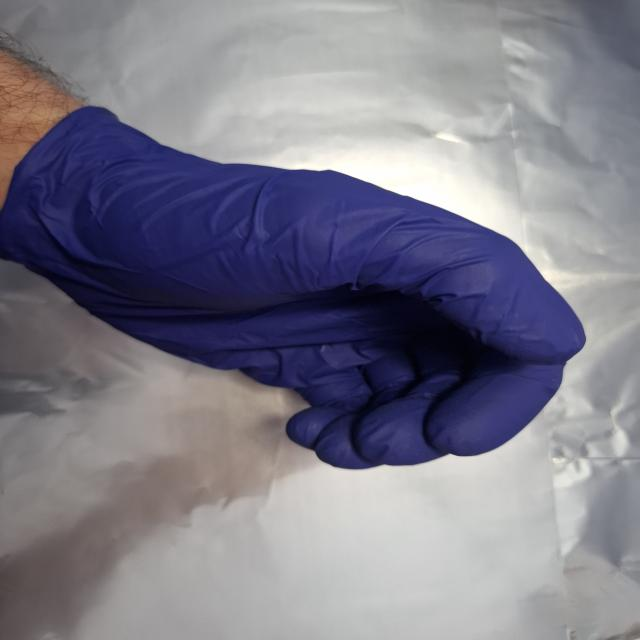glove_on: (8, 98, 589, 472)
